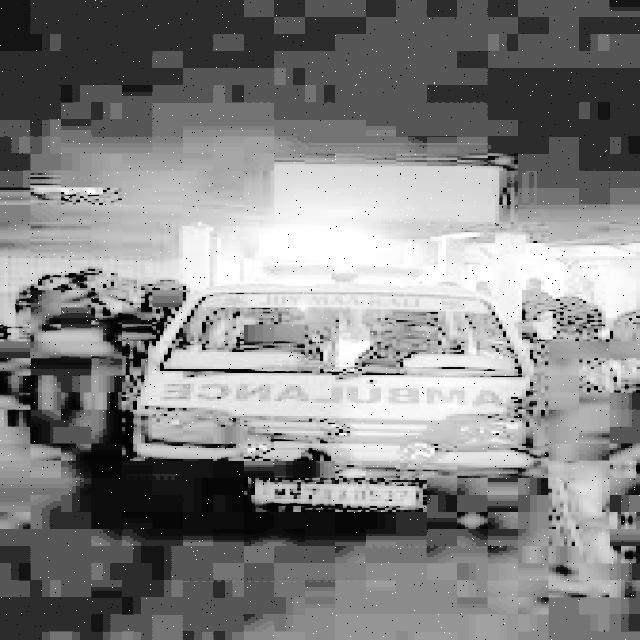Ambulance: (128, 263, 546, 546)
